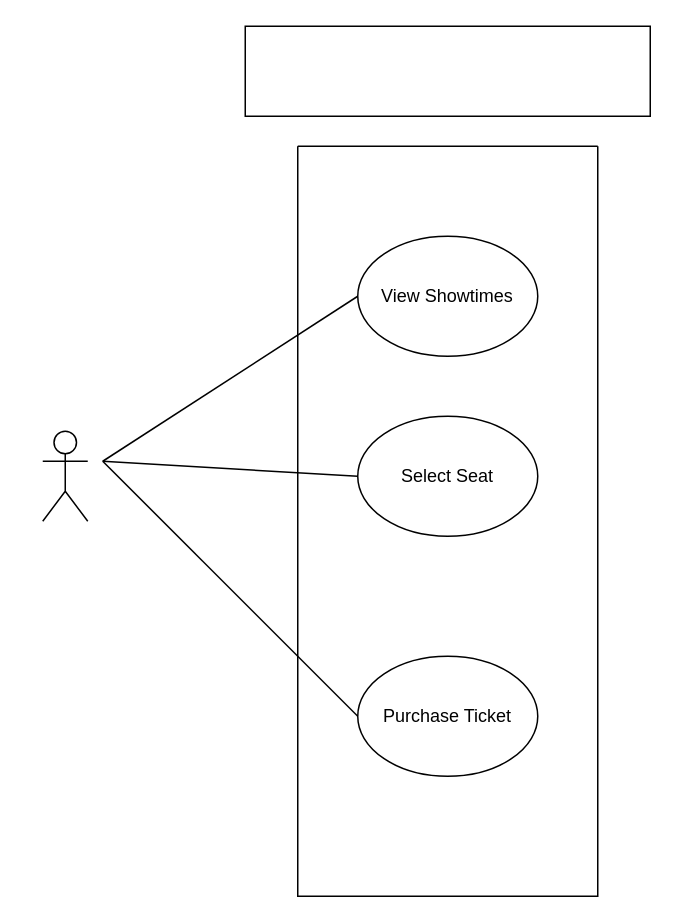
The diagram is 677 pixels wide and 923 high, and some of its shapes have lost their labels. The shapes that lost their labels are listed below. From the top down, each one's box as (x1, y1, x2, y2) in pixels, then its label:
(244, 25, 650, 116): Use Case Diagram Movie Theatre Ticket Kiosk
(41, 430, 88, 521): Customer
